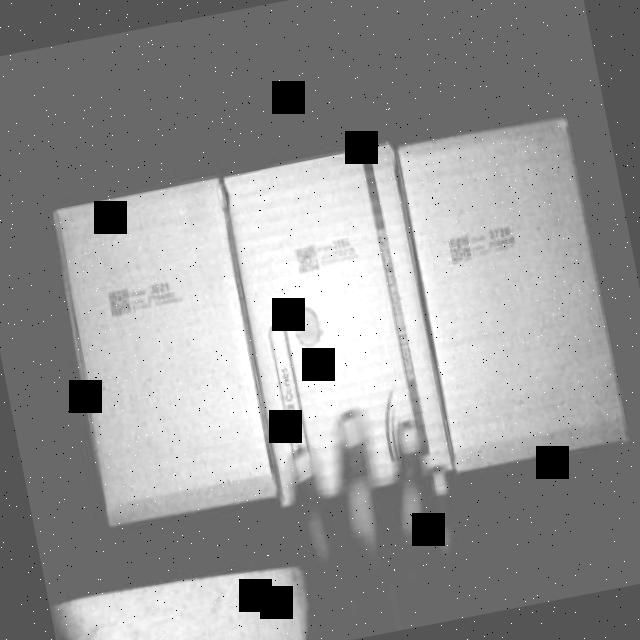box: (220, 143, 457, 507), (399, 114, 632, 470), (52, 177, 284, 520)
